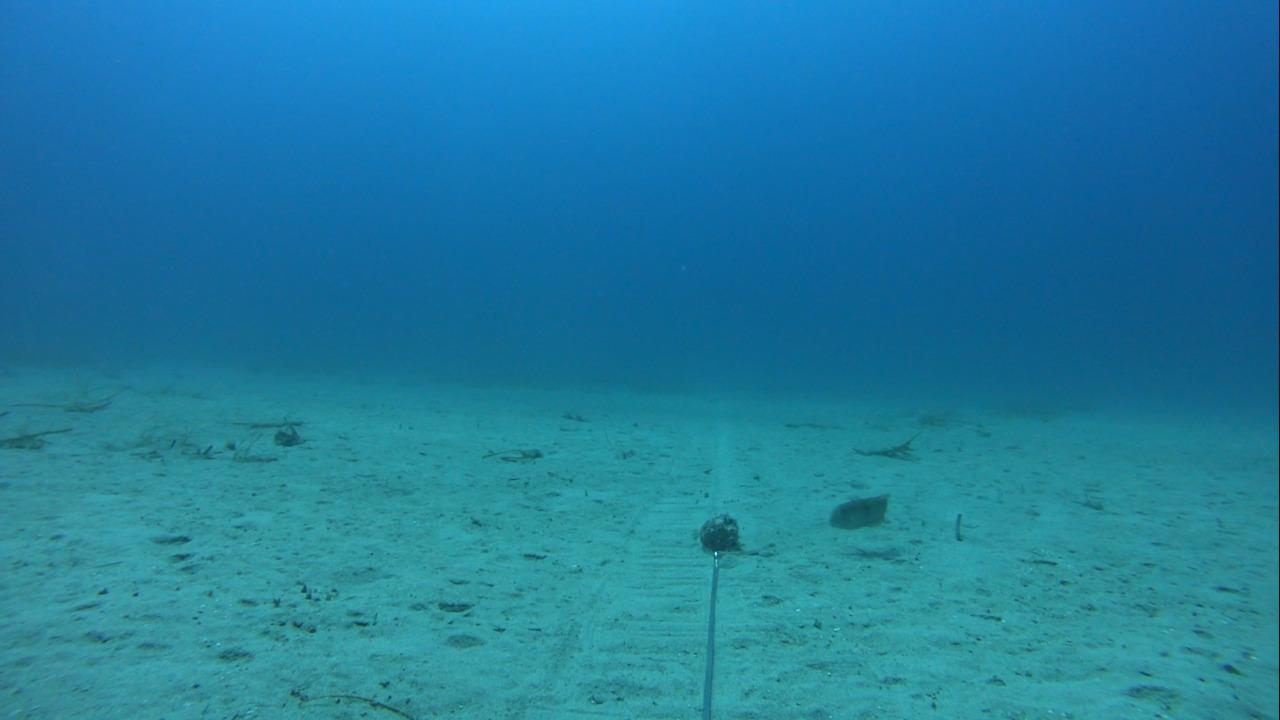raor: (821, 485, 894, 533)
